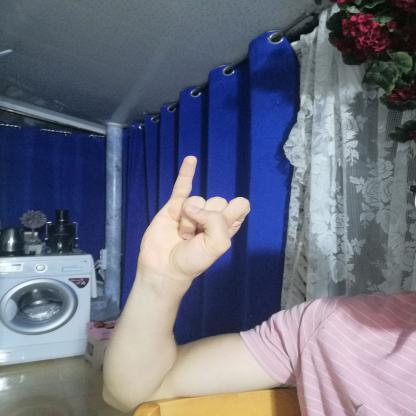MEEM: (127, 149, 258, 286)
